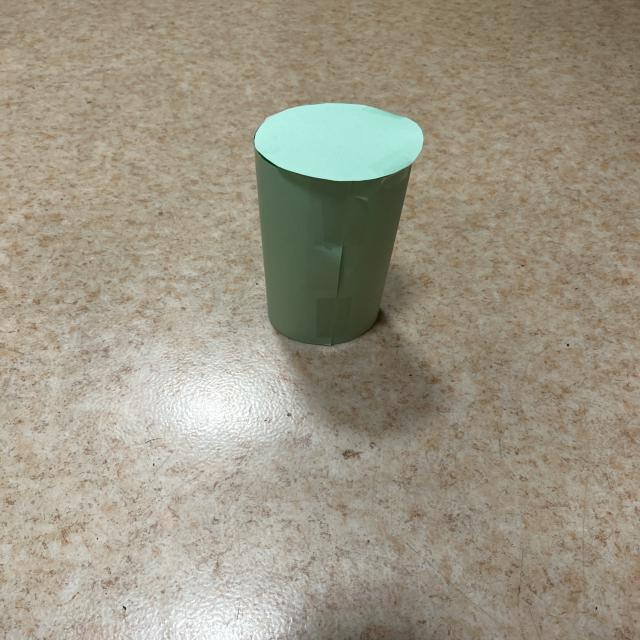meta: (254, 103, 423, 346)
